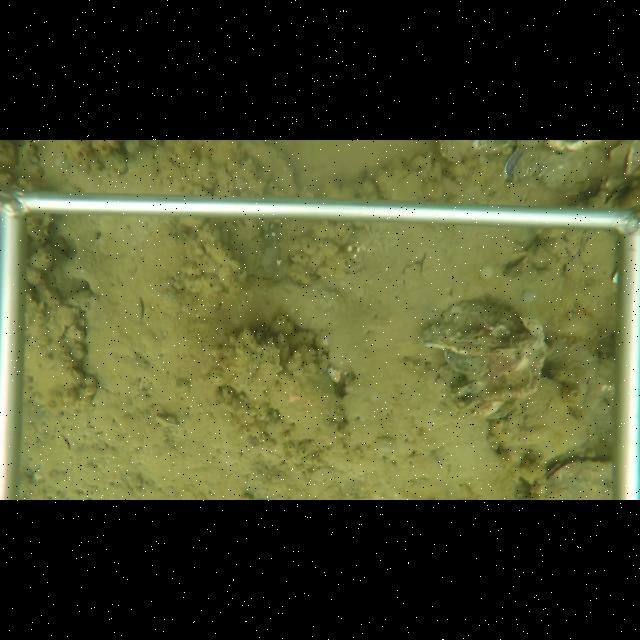Oyster-Closed: (266, 350, 351, 457), (413, 295, 535, 358), (29, 303, 100, 409), (207, 328, 284, 398), (240, 140, 299, 196)
Oyster-Open: (542, 454, 605, 489), (595, 181, 630, 209), (495, 254, 526, 279)
